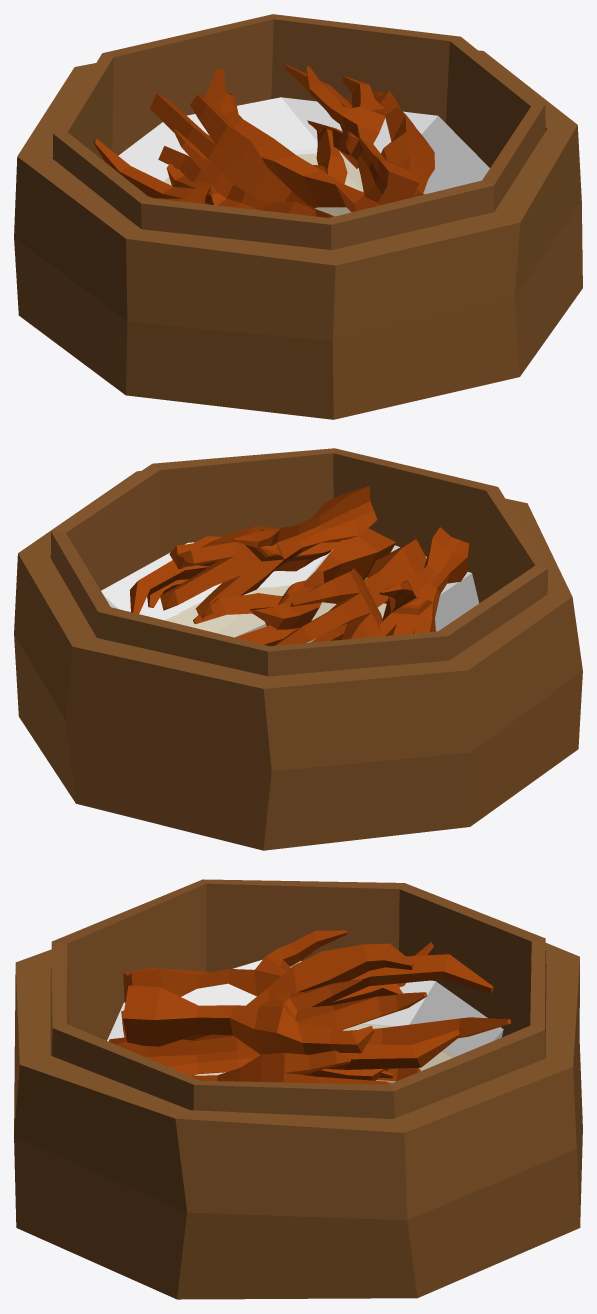
The model's file is Chicken_Feet.fbx.
The picture shows the model from 3 angles, top to bottom: view 1: azimuth 30°, elevation 25°; view 2: azimuth 150°, elevation 25°; view 3: azimuth 270°, elevation 25°; orthographic projection. The views are drawn at different scales.
Visible parts, largest first — view 1: Cylinder.010; view 2: Cylinder.010; view 3: Cylinder.010.
Part boxes in pixels (x1=…): Cylinder.010: x1=14, y1=14, x2=582, y2=419; Cylinder.010: x1=14, y1=448, x2=582, y2=850; Cylinder.010: x1=14, y1=879, x2=582, y2=1299.
Size of the model in its own units: 192 by 81.73 by 190.
